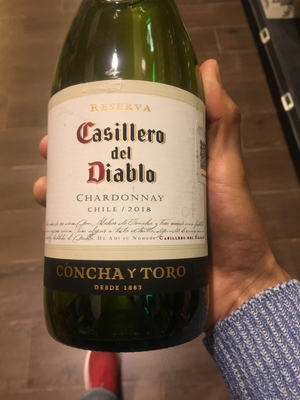casillero del diablo chardonnay: (37, 16, 212, 352)
